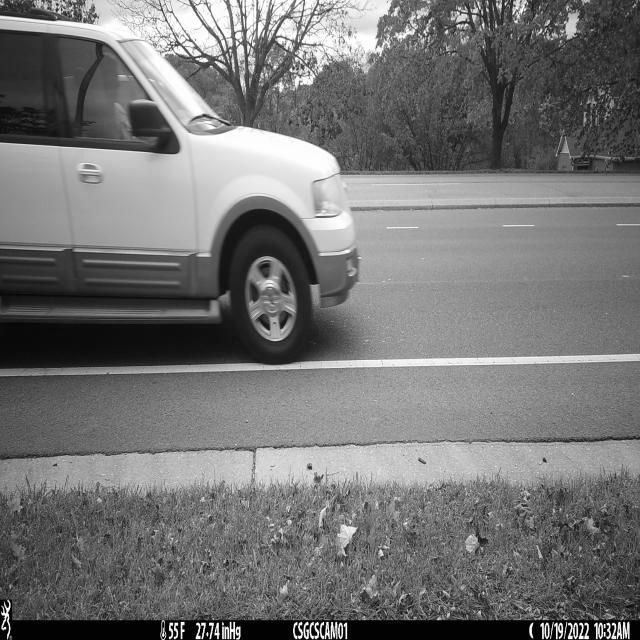SUV: (0, 13, 361, 365)
